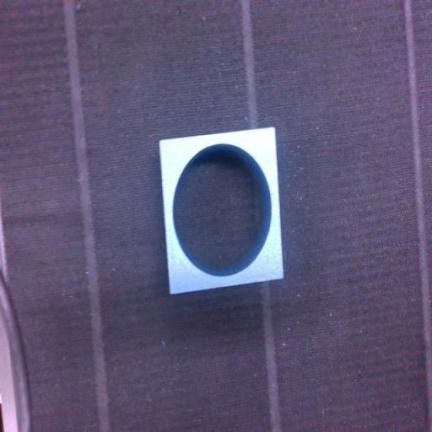hole: (160, 128, 283, 294)
